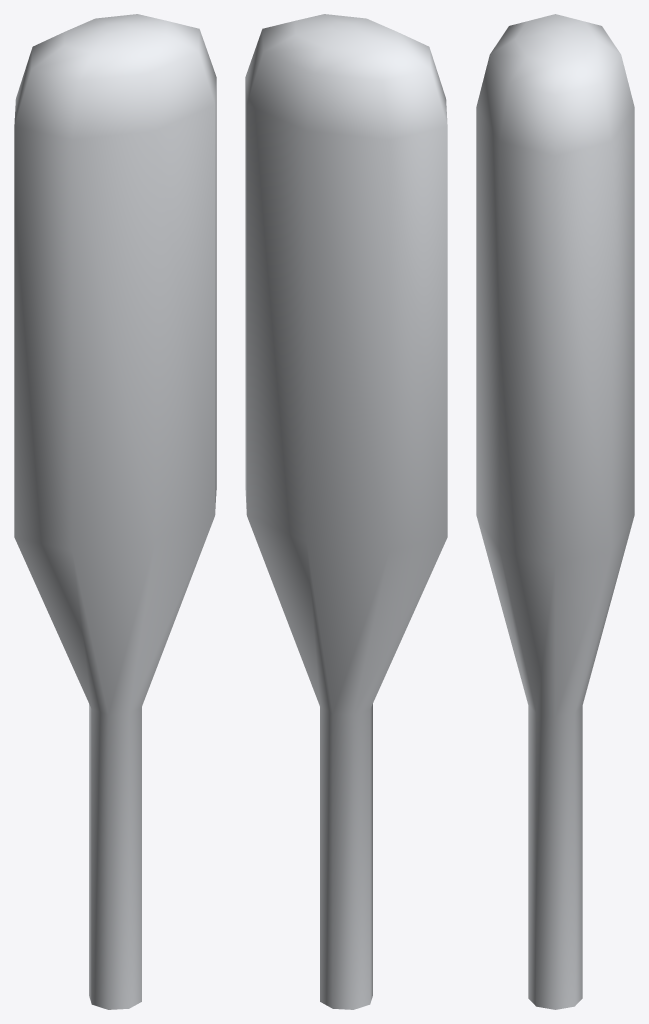
Rendered from bottle_micropipet.glb.
The picture shows the model from 3 angles, left to right: view 1: azimuth 30°, elevation 25°; view 2: azimuth 150°, elevation 25°; view 3: azimuth 270°, elevation 25°; orthographic projection.
Visible parts, largest first — view 1: bottle_micropipet; view 2: bottle_micropipet; view 3: bottle_micropipet.
Part boxes in pixels (bbox=[...]): bottle_micropipet: bbox=[14, 14, 216, 1009]; bottle_micropipet: bbox=[245, 14, 447, 1009]; bottle_micropipet: bbox=[476, 14, 634, 1009].
Size of the model in its own units: 2.1 by 9.62 by 1.43.
Materials: 1 (1 with a texture image).
